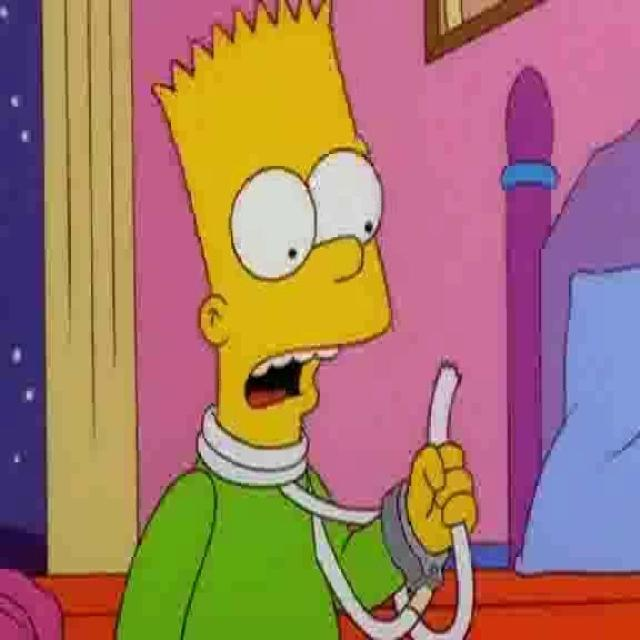Bart Simpson: (148, 4, 398, 452)
